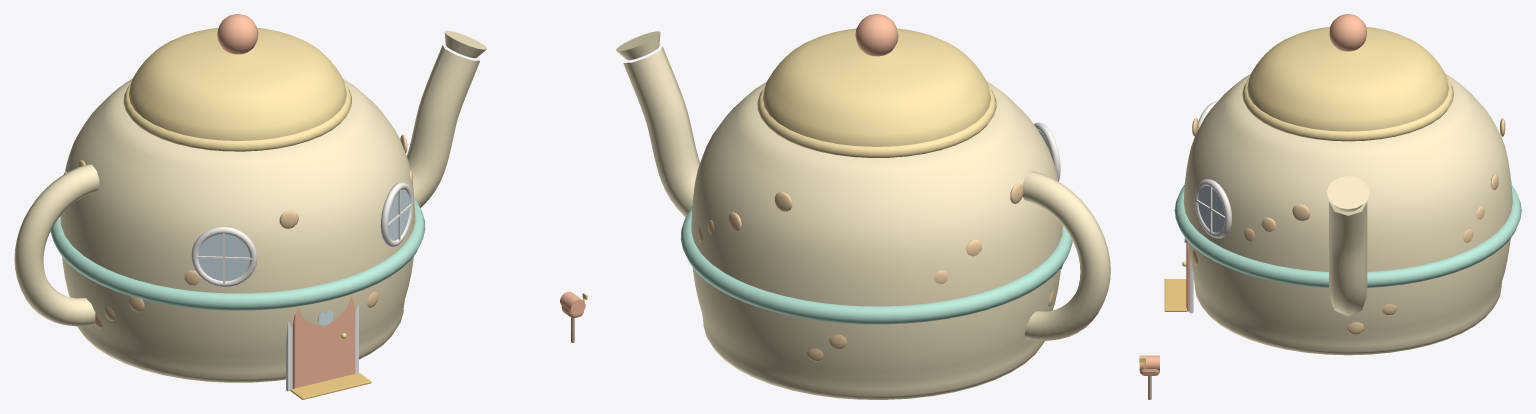
File: building_kitchen_L06.glb
The picture shows the model from 3 angles, left to right: view 1: azimuth 30°, elevation 25°; view 2: azimuth 150°, elevation 25°; view 3: azimuth 270°, elevation 25°; orthographic projection. The views are drawn at different scales.
Visible parts, largest first — view 1: Body, kitchen_L6; view 2: Body; view 3: Body, kitchen_L6.
Part boxes in pixels (bbox=[...]): Body: bbox=[14, 14, 486, 399]; kitchen_L6: bbox=[560, 291, 587, 342]; Body: bbox=[616, 14, 1110, 399]; Body: bbox=[1164, 14, 1521, 355]; kitchen_L6: bbox=[1139, 355, 1159, 399].
Bounding box in the file's own units: 22.16 × 13.84 × 16.97.
